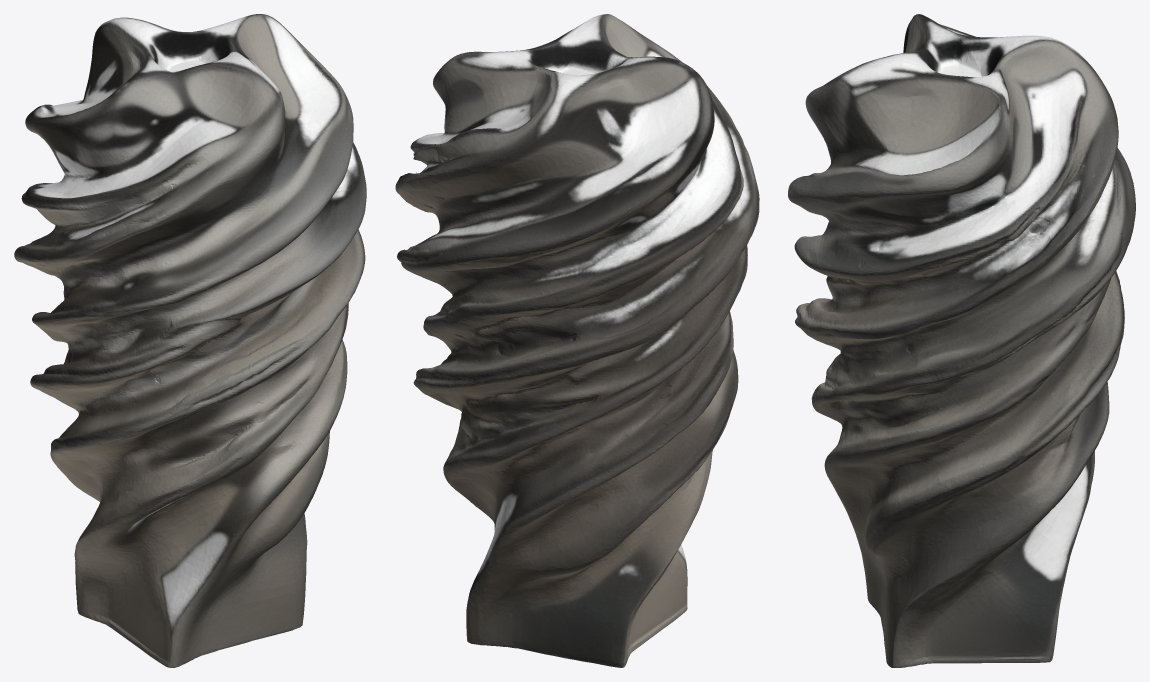
Rendered from idarb_pbr.glb.
3 views of the same model, side by side, from view 1: azimuth 30°, elevation 25°; view 2: azimuth 150°, elevation 25°; view 3: azimuth 270°, elevation 25° (orthographic).
Visible parts, largest first — view 1: world; view 2: world; view 3: world.
Part boxes in pixels (x1=…): world: x1=14, y1=14, x2=366, y2=667; world: x1=395, y1=14, x2=759, y2=667; world: x1=788, y1=14, x2=1135, y2=667.
Bounding box in the file's own units: 0.5663 × 1 × 0.5428.
Materials: 1 (1 with a texture image).
